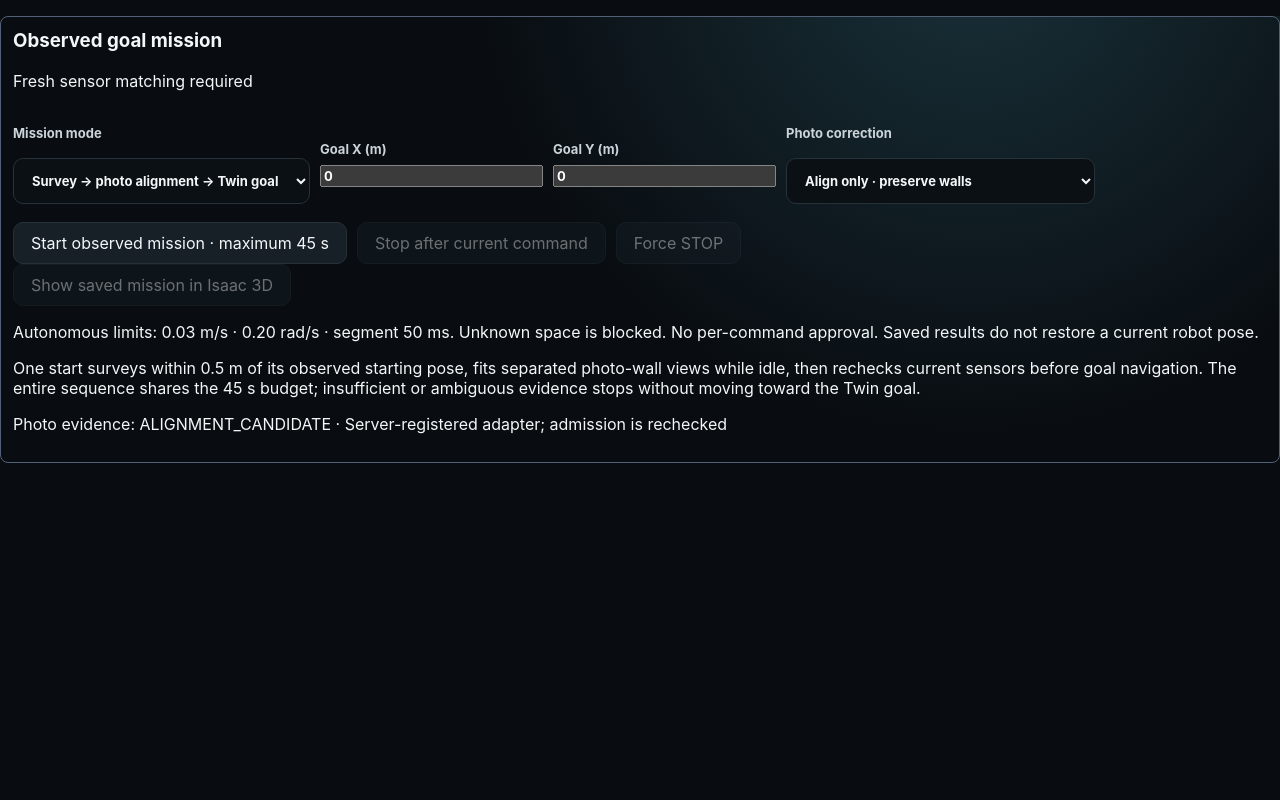
it: current observed mission › shows cleanup-only failures from polling and marks unavailable position explicitly
Click the button "Start observed mission · maximum 45 s".
click(180, 243)  # box left=13, top=222, right=347, bottom=264
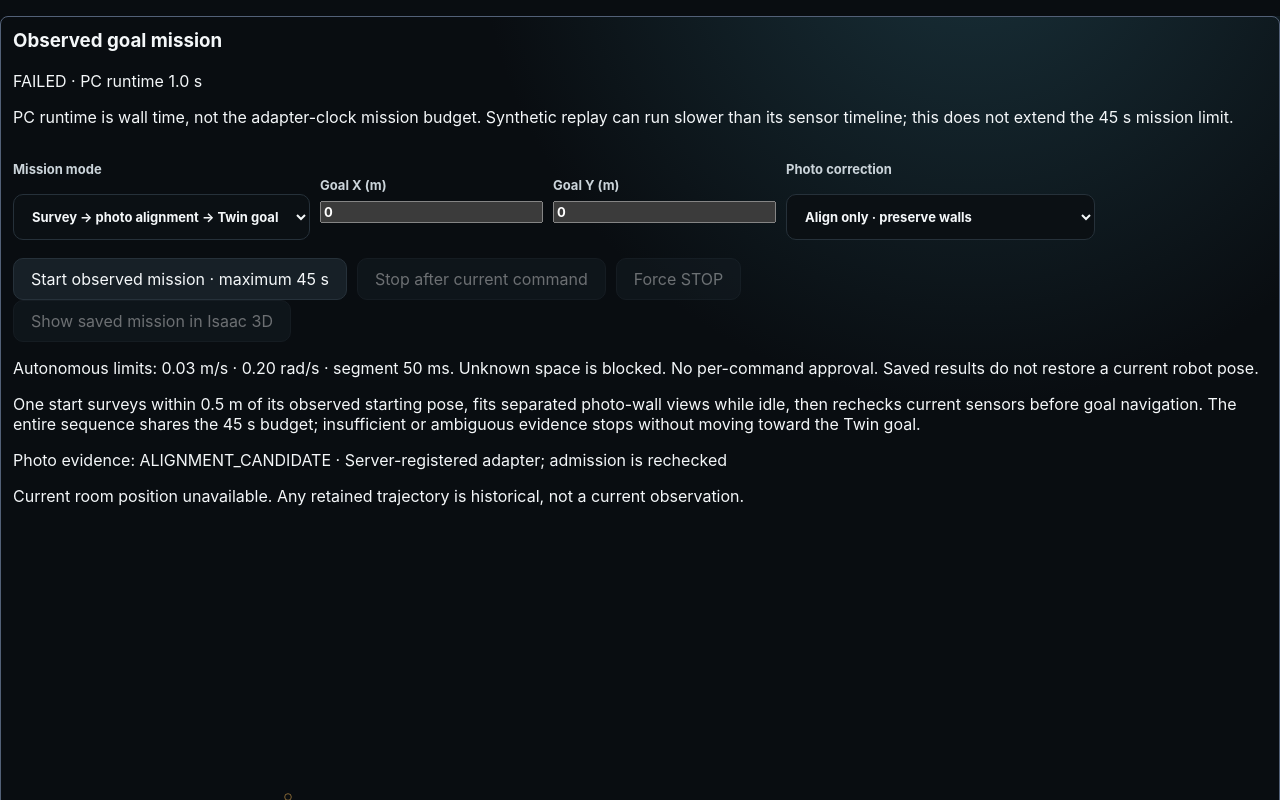
Now the text "Current room position unavailable" is shown, box left=13, top=486, right=744, bottom=506
